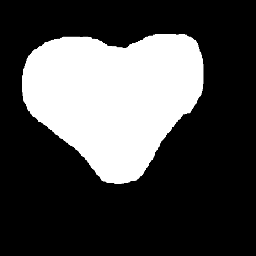mass: (29, 40, 206, 178)
